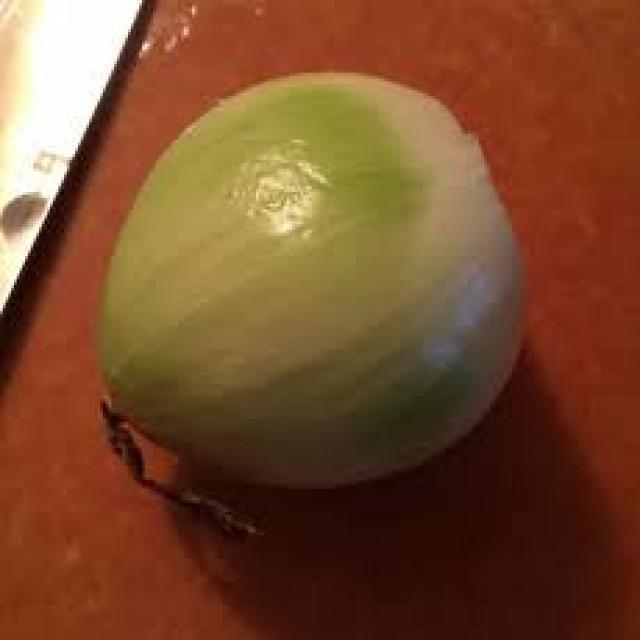Onion: (97, 71, 527, 536)
